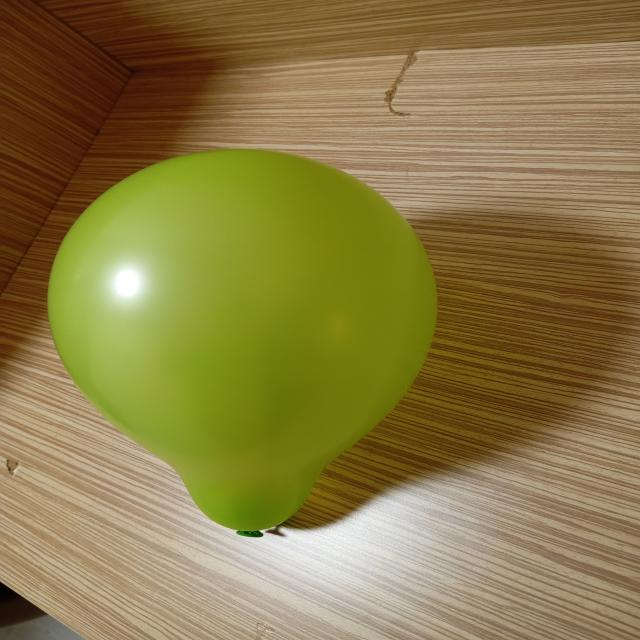balloon: (48, 149, 437, 536)
